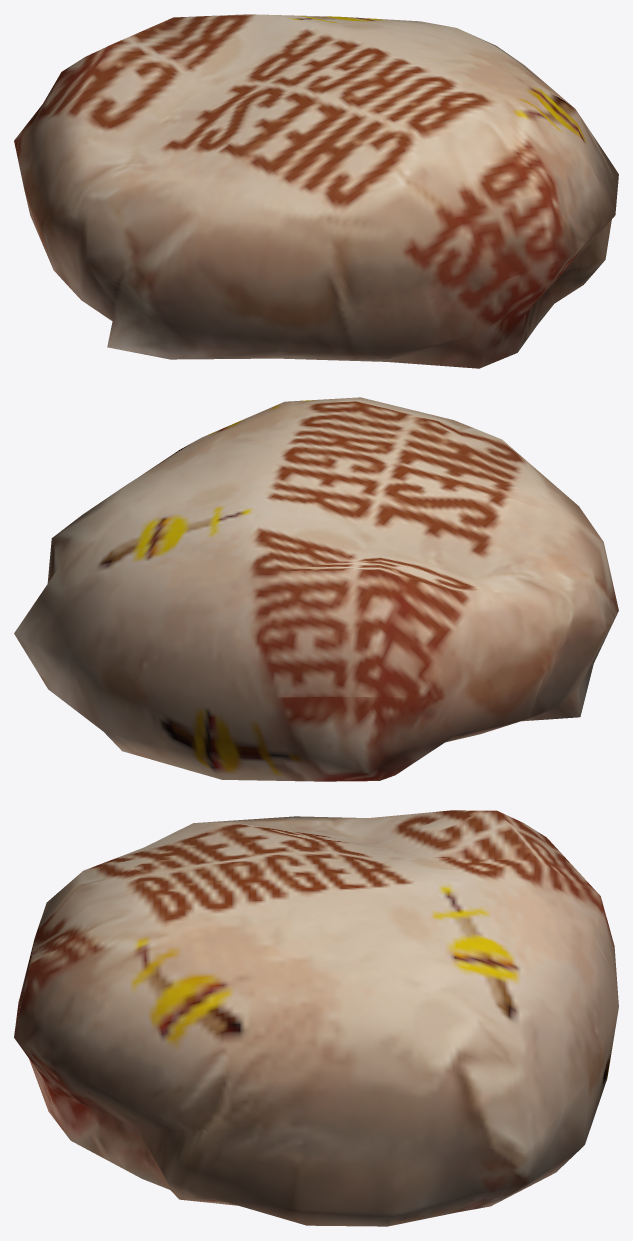
Rendered from pack_cheeseburger.FBX.
3 views of the same model, one above another, from view 1: azimuth 30°, elevation 25°; view 2: azimuth 150°, elevation 25°; view 3: azimuth 270°, elevation 25° (orthographic). The views are drawn at different scales.
Parts seen in each view (by area): view 1: pack_cheeseburger_LOD00; view 2: pack_cheeseburger_LOD00; view 3: pack_cheeseburger_LOD00.
Part boxes in pixels (x1,y1,x2,y2): pack_cheeseburger_LOD00: [14, 14, 618, 368]; pack_cheeseburger_LOD00: [14, 397, 618, 781]; pack_cheeseburger_LOD00: [14, 810, 618, 1226].
Size of what is drawn, in the model's own units: 5.83 by 2.72 by 5.66.
